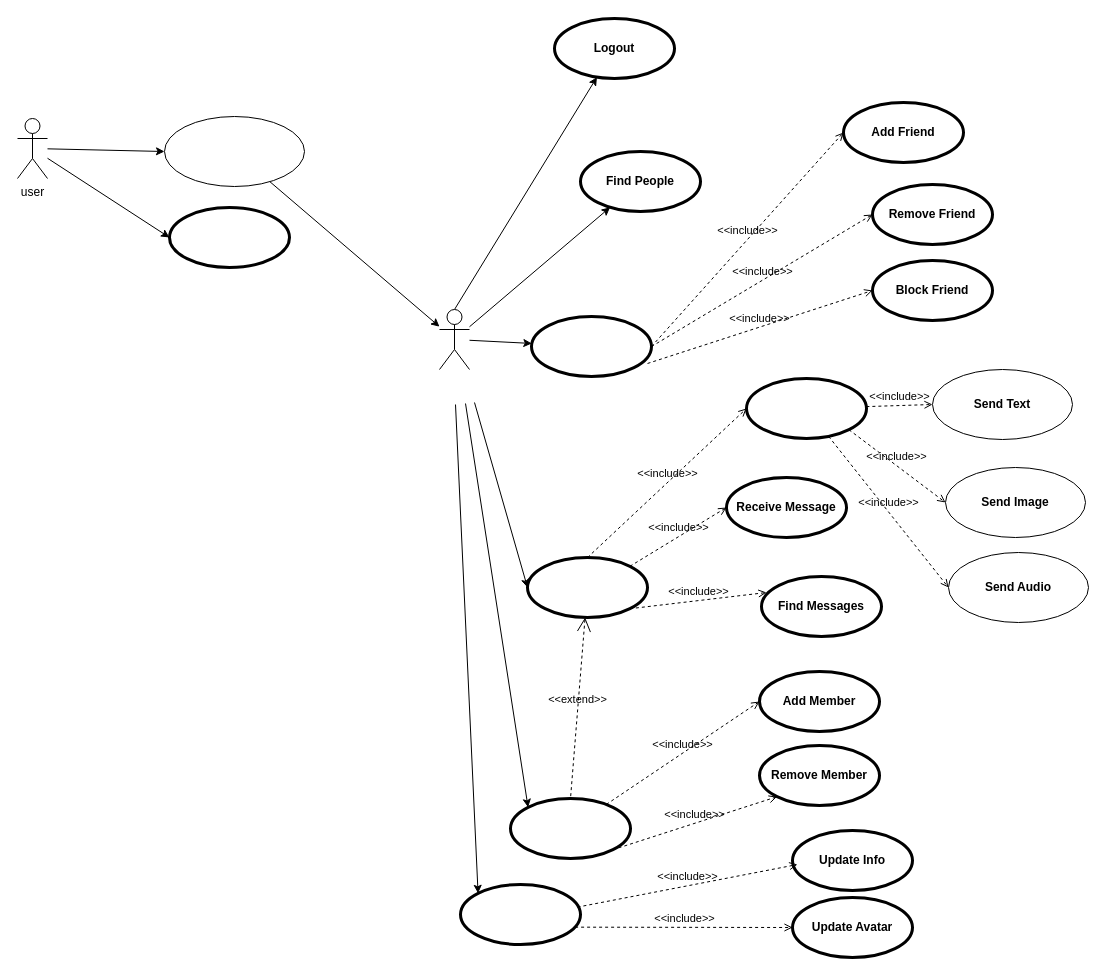
Some shapes in this 1106 by 976 pixel diagram are drawn without their labels. Each missing label, with the centre of its shape:
"authenticated user" belongs at pixel 454 339.
"Edit Profile" belongs at pixel 520 914.
"Friends Actions" belongs at pixel 591 346.
"Group Actions" belongs at pixel 570 828.
"Login" belongs at pixel 234 151.
"Messages Actions" belongs at pixel 587 587.
"Register" belongs at pixel 229 237.
"Send Message" belongs at pixel 806 408.
